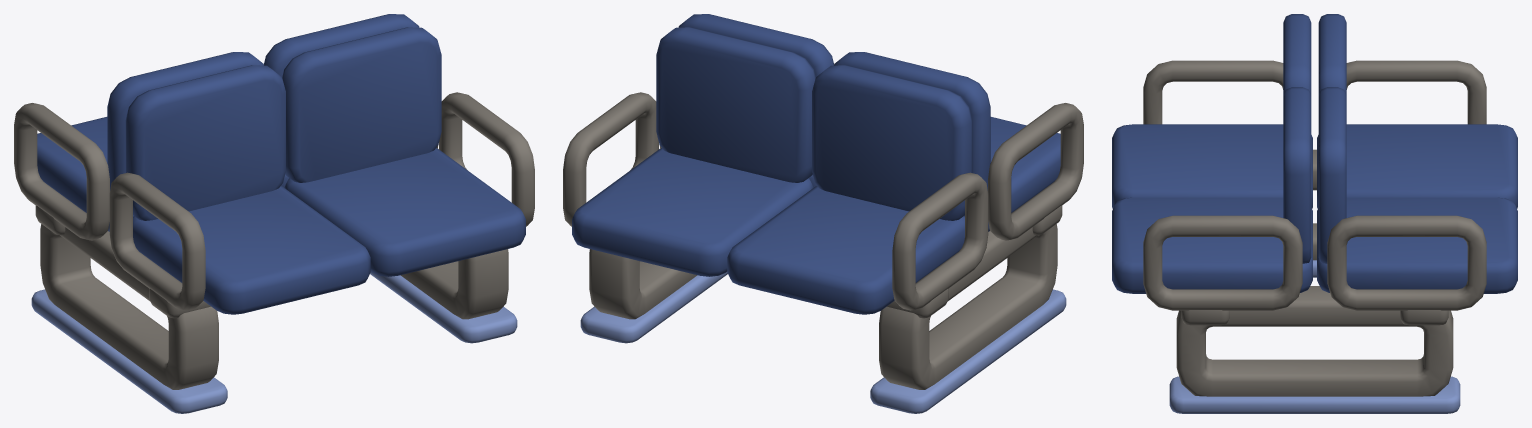
The model's file is banquette_dos_a_dos.glb.
The picture shows the model from 3 angles, left to right: view 1: azimuth 30°, elevation 25°; view 2: azimuth 150°, elevation 25°; view 3: azimuth 270°, elevation 25°; orthographic projection. The views are drawn at different scales.
Parts seen in each view (by area): view 1: BDD_Bleu_Moyen, BDD_Gris_Chaud, BDD_Bleu_Clair; view 2: BDD_Bleu_Moyen, BDD_Gris_Chaud, BDD_Bleu_Clair; view 3: BDD_Bleu_Moyen, BDD_Gris_Chaud, BDD_Bleu_Clair.
Boxes of the visible parts, x1,y1,x2,y2 form: BDD_Bleu_Moyen: [37, 14, 525, 314]; BDD_Gris_Chaud: [14, 92, 534, 389]; BDD_Bleu_Clair: [31, 272, 517, 413]; BDD_Bleu_Moyen: [572, 14, 1060, 314]; BDD_Gris_Chaud: [563, 92, 1083, 389]; BDD_Bleu_Clair: [580, 272, 1066, 413]; BDD_Bleu_Moyen: [1112, 14, 1517, 293]; BDD_Gris_Chaud: [1143, 60, 1486, 396]; BDD_Bleu_Clair: [1169, 260, 1460, 413].
Bounding box in the file's own units: 1.12 × 0.82 × 1.17.
